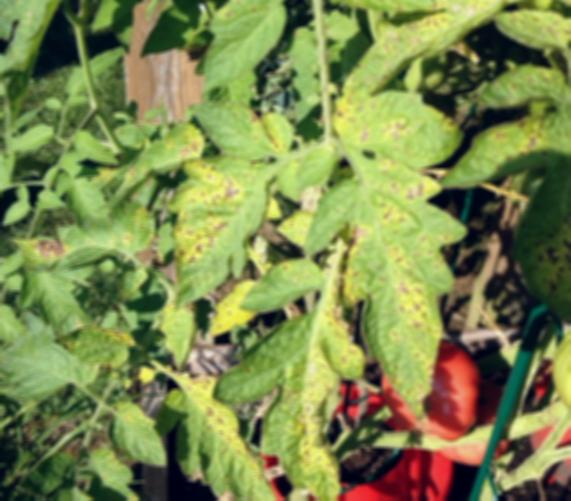Tomato Septoria leaf spot: (293, 87, 464, 412), (223, 297, 375, 486), (477, 52, 571, 355), (133, 372, 285, 501), (348, 0, 537, 89), (164, 155, 266, 306), (53, 316, 141, 375)
